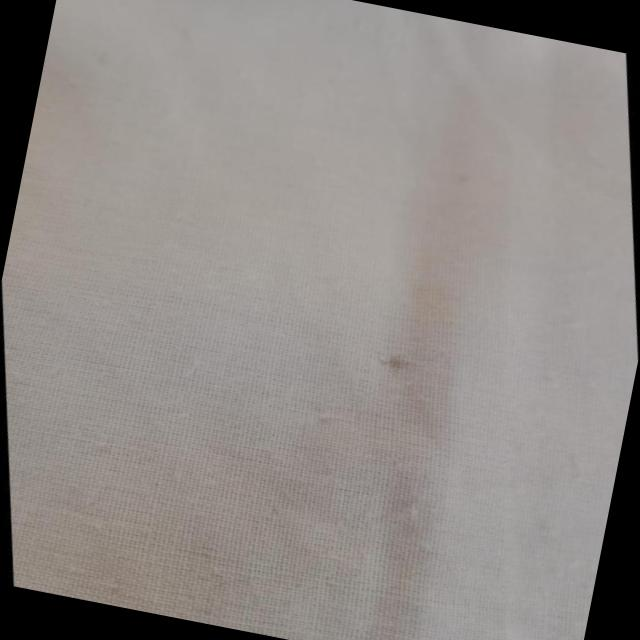stain: (351, 327, 448, 398)
